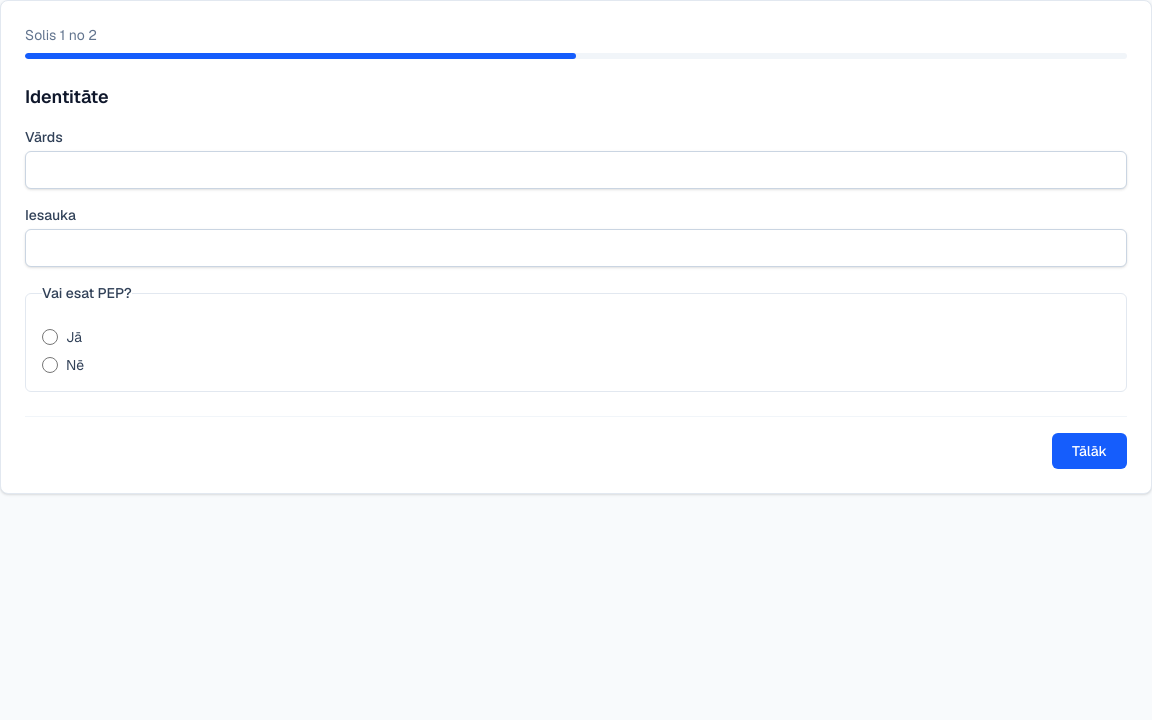
Scenario: Wizard required fields › clears the message as soon as the client fills the field in
Step 1. Click the button "Tālāk" → x=1090, y=451, box [1052,433,1127,469]
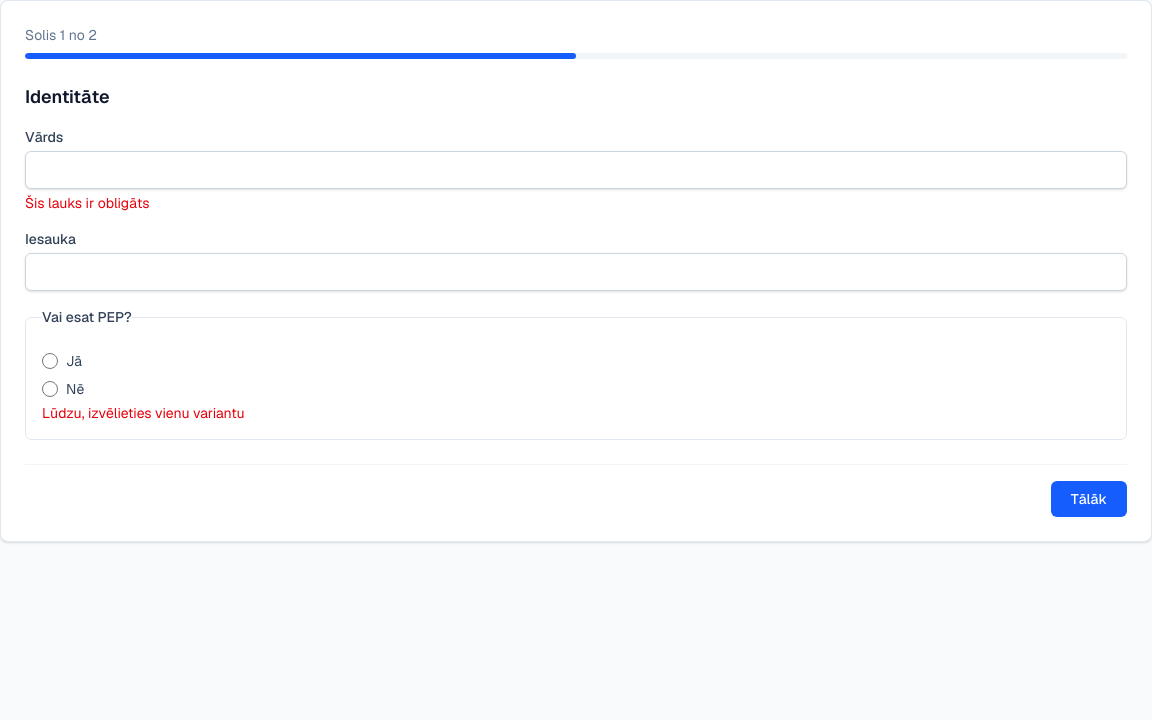
Result: the text "Šis lauks ir obligāts" is shown at [25,194,149,212]
Step 2. Type "Jānis" into the field labelled "Vārds" → x=576, y=170, box [25,151,1127,189]
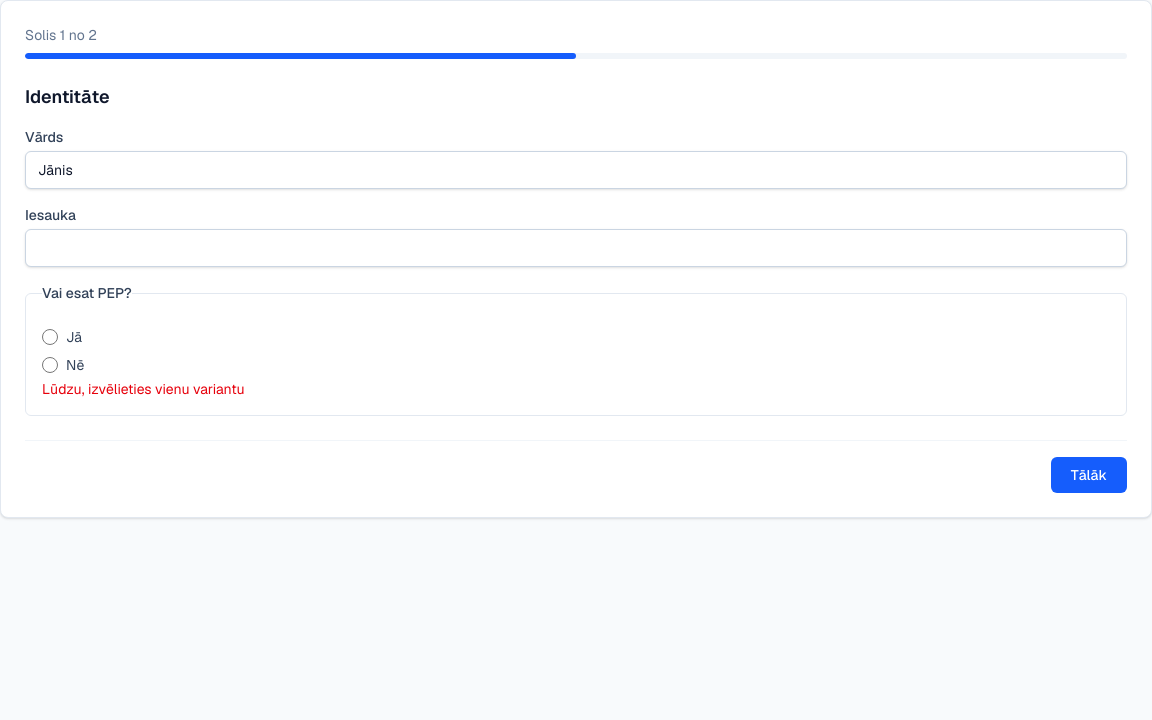
Result: the text "Šis lauks ir obligāts" is gone
